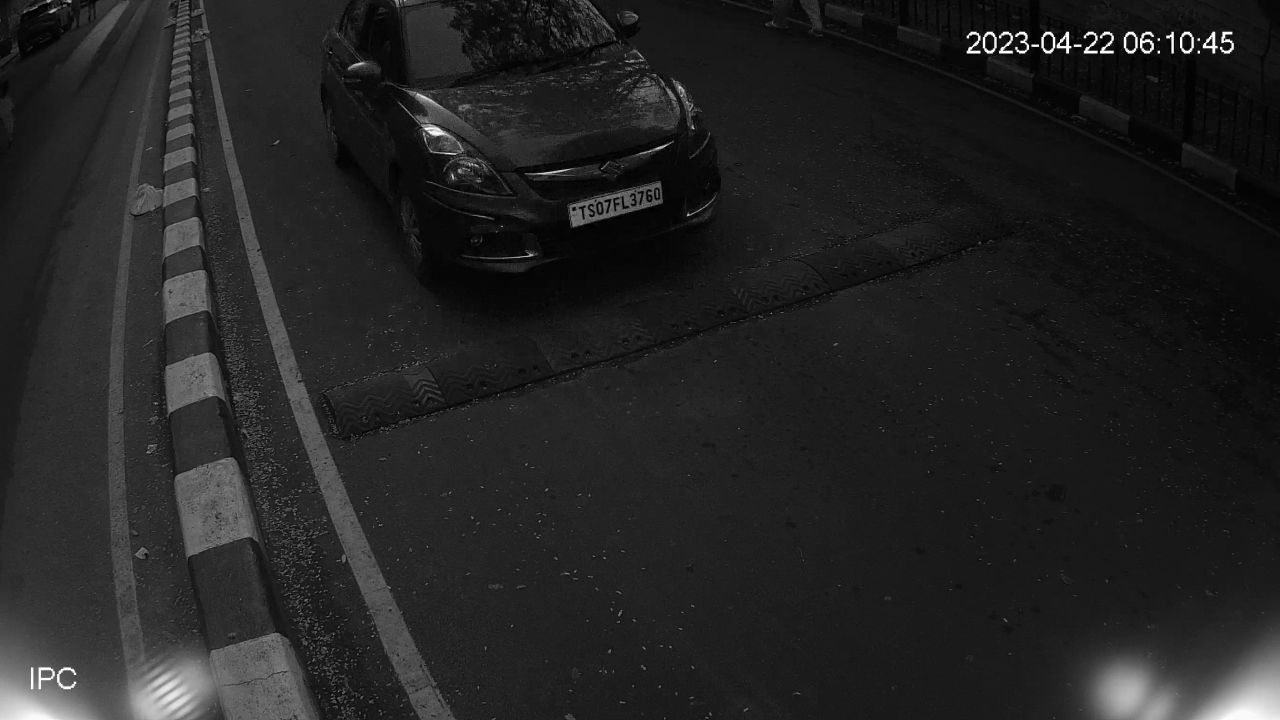license_plate: (567, 178, 668, 233)
